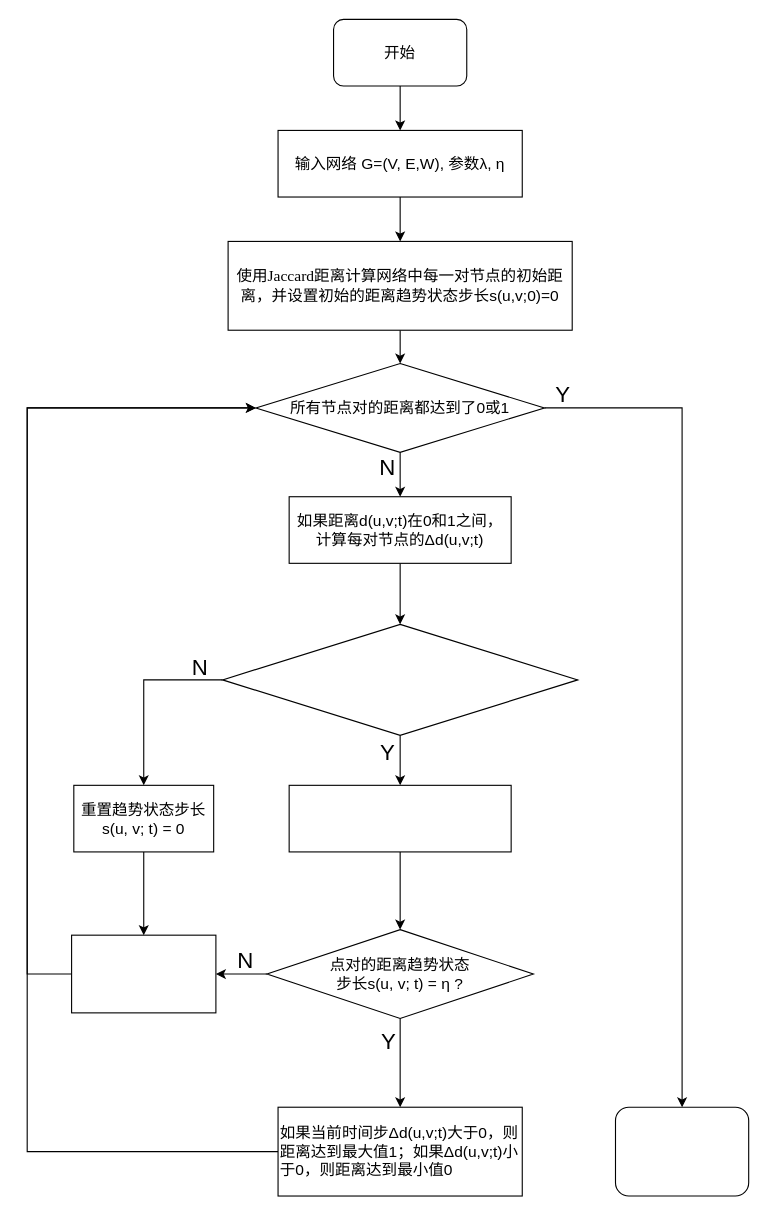
Some shapes in this 768 by 1215 pixel diagram are drawn without their labels. Each missing label, with the box of its shape:
判断上一步和当前步的距 离变化量正负号是否相同 d(u, v; t) * d(u, v; t-1) > 0: (221, 623, 578, 735)
更新点对距离值 d(u,v;t+1)= d(u,v;t)+Δd(u,v;t): (70, 934, 216, 1013)
更新距离趋势状态步长 s(u, v; t) = s(u, v; t-1) + 1: (288, 784, 511, 852)
结束: (614, 1106, 749, 1196)
